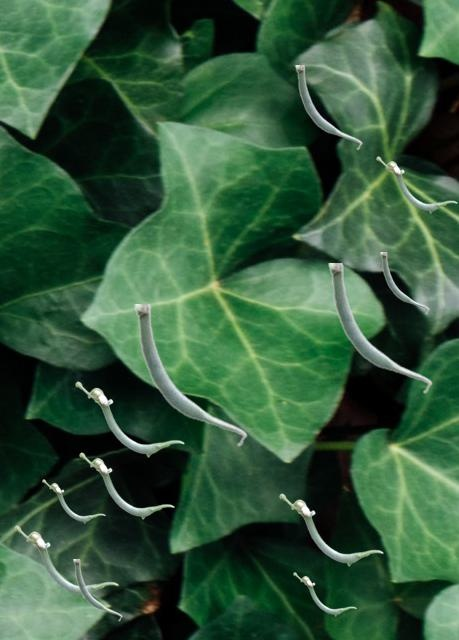french_bean: (134, 304, 246, 446), (328, 263, 431, 393), (75, 381, 183, 456), (279, 493, 382, 565), (14, 525, 117, 597), (79, 452, 173, 518), (295, 65, 361, 149), (376, 156, 456, 212), (73, 559, 121, 620), (380, 252, 428, 313), (42, 479, 104, 522), (293, 572, 355, 615)
